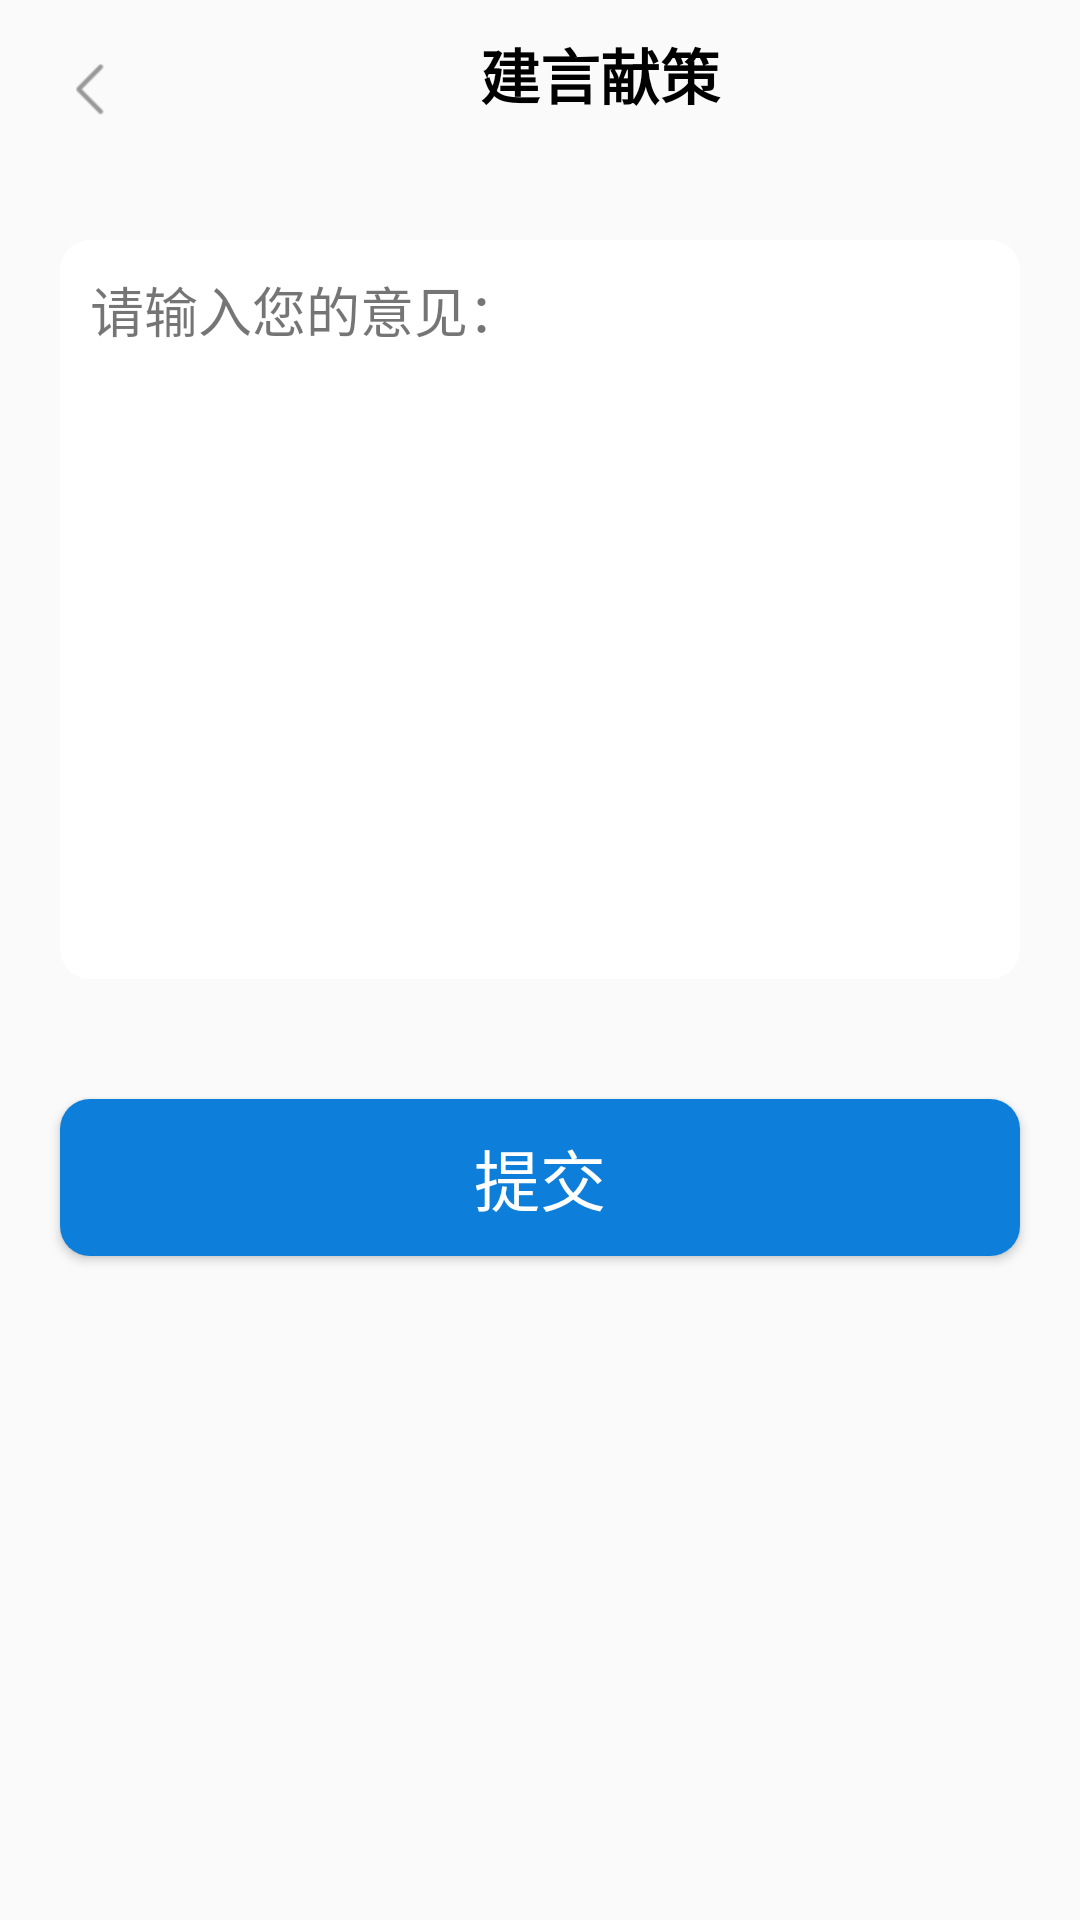

Point at icon controls on the screen. Image size 1080x1920, points as (x,y).
top bar left back: (90,89)
